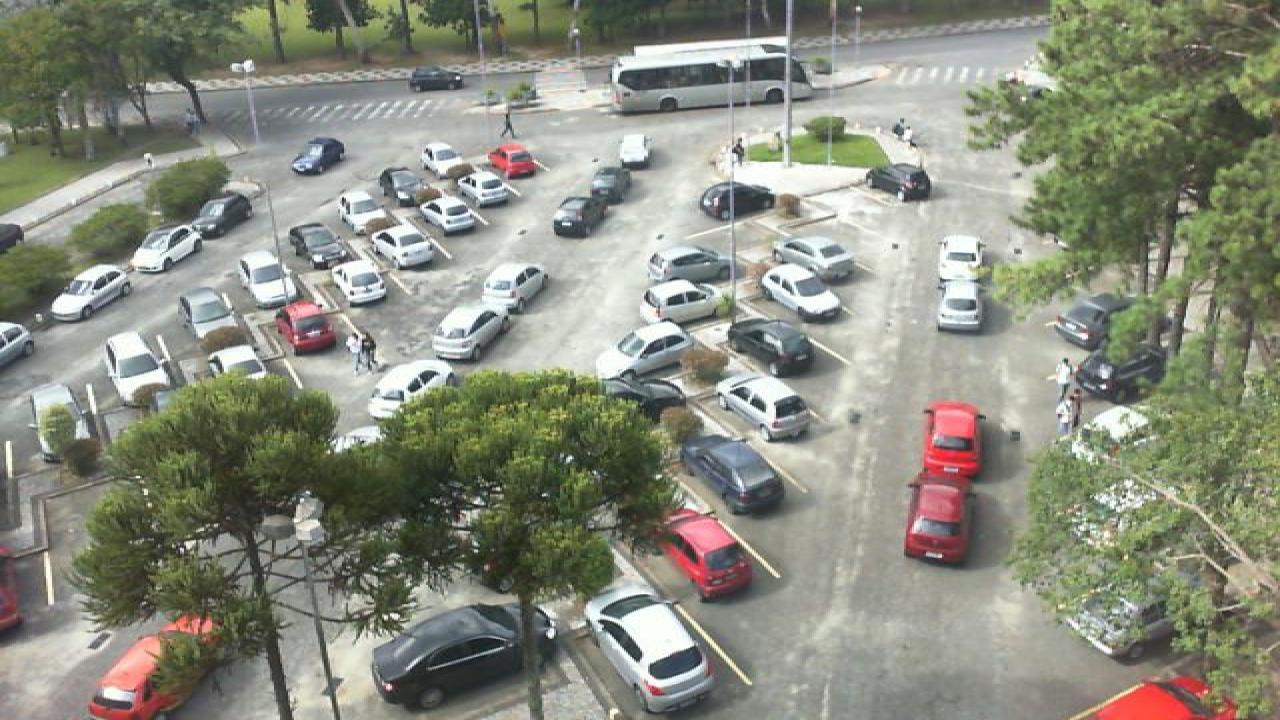Car: (368, 601, 562, 711), (578, 575, 718, 712), (86, 612, 218, 720), (650, 503, 752, 603), (676, 431, 786, 517), (712, 374, 812, 442), (592, 320, 694, 384), (900, 479, 974, 565), (1072, 341, 1164, 403), (722, 316, 814, 377), (102, 331, 176, 406), (918, 400, 984, 484), (366, 361, 458, 421), (46, 262, 134, 323), (430, 303, 516, 362), (762, 263, 844, 324), (594, 374, 688, 422), (1050, 290, 1120, 349), (128, 222, 204, 276), (772, 233, 854, 282), (476, 261, 550, 314), (642, 278, 726, 324), (174, 287, 240, 345), (648, 244, 732, 287), (274, 300, 336, 356), (238, 250, 292, 308), (698, 179, 774, 220), (370, 227, 436, 270), (288, 222, 344, 270), (332, 261, 390, 307), (936, 281, 986, 334), (868, 162, 932, 201), (938, 233, 984, 287), (420, 195, 482, 235), (206, 344, 268, 382), (290, 136, 346, 177), (552, 196, 602, 240), (336, 189, 390, 229), (486, 142, 540, 180), (458, 172, 514, 208), (378, 166, 426, 206), (582, 168, 632, 205), (420, 142, 466, 179), (406, 66, 464, 92), (618, 134, 654, 170)
